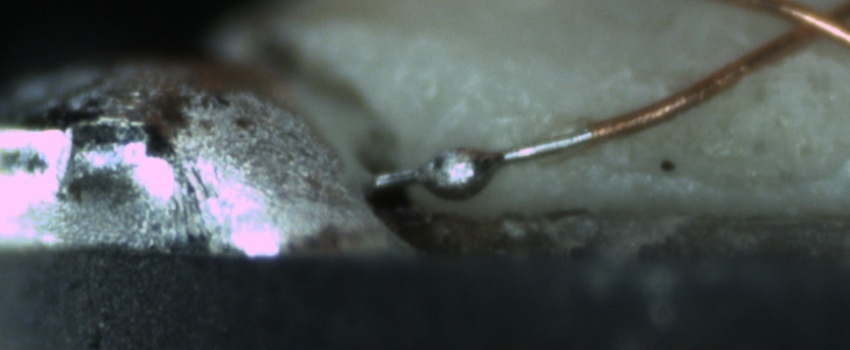CL: (773, 2, 848, 47)
TB: (415, 144, 502, 204)
TS: (370, 129, 594, 189)
TTCW: (371, 107, 654, 203)
